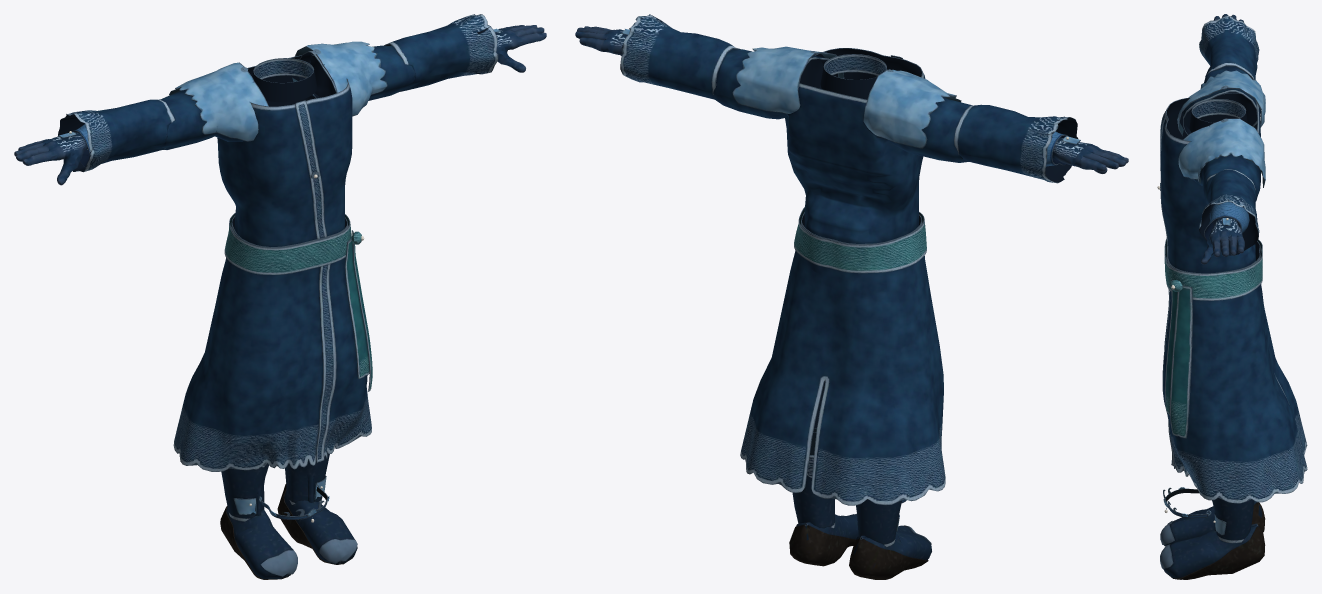
File: mage_abyssal.glb
The picture shows the model from 3 angles, left to right: view 1: azimuth 30°, elevation 25°; view 2: azimuth 150°, elevation 25°; view 3: azimuth 270°, elevation 25°; orthographic projection. The views are drawn at different scales.
Visible parts, largest first — view 1: robe, feet, gloves; view 2: robe, feet, gloves; view 3: robe, feet, gloves, circlet.
Boxes of the visible parts, <box> form: robe: <box>57,14,498,471</box>; feet: <box>220,453,357,579</box>; gloves: <box>14,25,546,185</box>; robe: <box>620,14,1078,505</box>; feet: <box>789,428,931,579</box>; gloves: <box>575,26,1128,173</box>; robe: <box>1157,16,1307,503</box>; feet: <box>1160,498,1265,579</box>; gloves: <box>1201,14,1249,264</box>; circlet: <box>1163,487,1211,518</box>.
Size of the model in its own units: 1.8 by 1.61 by 0.4777.
Materials: 4 (4 with a texture image).
